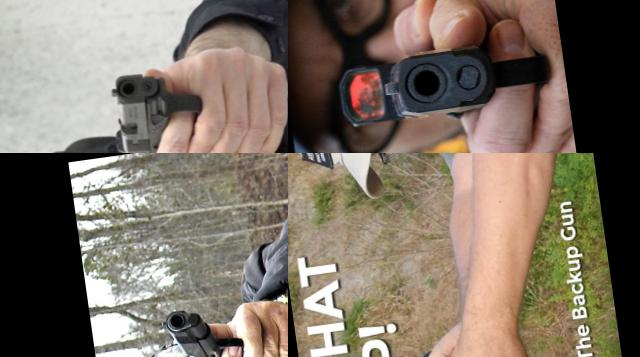handgun: (331, 24, 566, 135), (104, 57, 218, 153), (156, 294, 262, 357), (414, 340, 480, 357)
